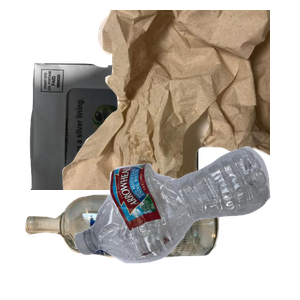glass: (22, 192, 234, 300)
paper: (27, 60, 223, 240)
plastic: (72, 144, 300, 300)
trash: (60, 10, 300, 190)
